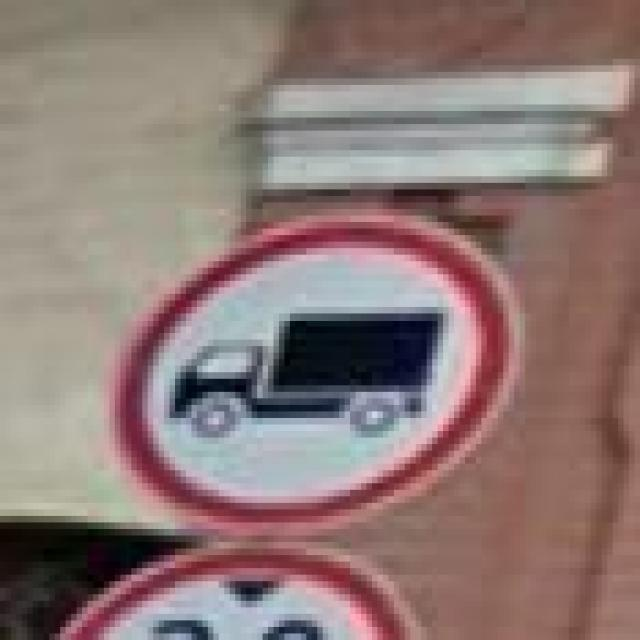truck: (110, 215, 525, 529)
